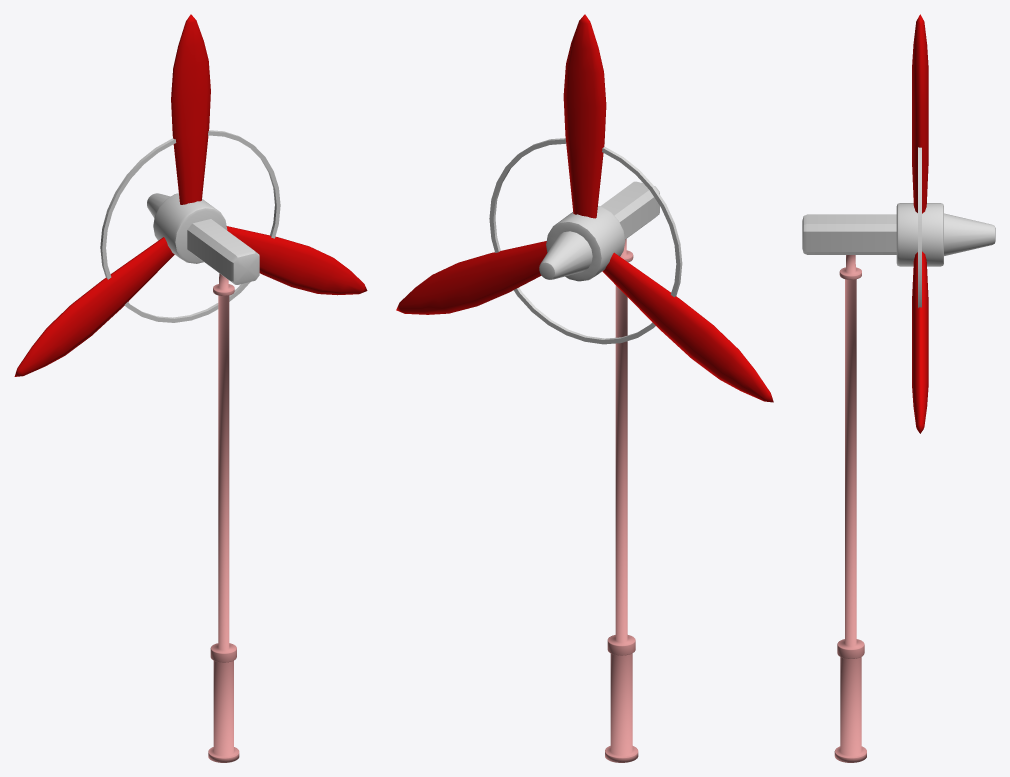
The model's file is SolarAsset13_Fan02.fbx.
3 views of the same model, side by side, from view 1: azimuth 30°, elevation 25°; view 2: azimuth 150°, elevation 25°; view 3: azimuth 270°, elevation 25° (orthographic). The views are drawn at different scales.
Parts seen in each view (by area): view 1: Cylinder022, Pole002, Box029, Cylinder019; view 2: Cylinder022, Pole002, Cylinder019, Box029; view 3: Pole002, Cylinder022, Cylinder019, Box029.
Boxes of the visible parts, x1=… form: Cylinder022: x1=14, y1=14, x2=367, y2=376; Pole002: x1=208, y1=273, x2=239, y2=762; Box029: x1=187, y1=219, x2=259, y2=284; Cylinder019: x1=147, y1=193, x2=227, y2=263; Cylinder022: x1=396, y1=14, x2=773, y2=402; Pole002: x1=605, y1=239, x2=638, y2=762; Cylinder019: x1=539, y1=206, x2=625, y2=281; Box029: x1=600, y1=181, x2=659, y2=239; Pole002: x1=834, y1=255, x2=866, y2=762; Cylinder022: x1=912, y1=14, x2=928, y2=433; Cylinder019: x1=896, y1=203, x2=995, y2=266; Box029: x1=802, y1=214, x2=896, y2=254.
Size of the model in its own units: 197 by 382 by 90.09.
